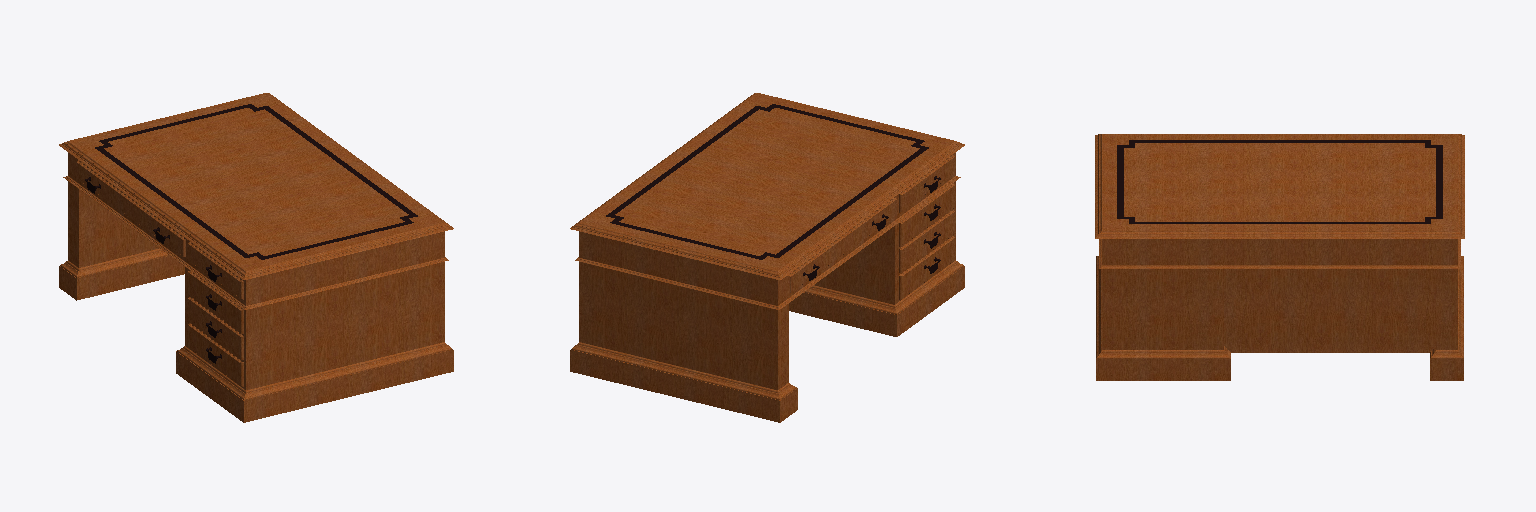
3 views of the same model, side by side, from view 1: azimuth 30°, elevation 25°; view 2: azimuth 150°, elevation 25°; view 3: azimuth 270°, elevation 25° (orthographic).
Parts seen in each view (by area): view 1: Mesh7 desk1 desk_1_1 Model, Mesh8 desk1 desk_1_1 Model; view 2: Mesh7 desk1 desk_1_1 Model, Mesh8 desk1 desk_1_1 Model; view 3: Mesh7 desk1 desk_1_1 Model.
Boxes of the visible parts, x1=… form: Mesh7 desk1 desk_1_1 Model: x1=59, y1=93, x2=453, y2=422; Mesh8 desk1 desk_1_1 Model: x1=188, y1=270, x2=243, y2=333; Mesh7 desk1 desk_1_1 Model: x1=570, y1=93, x2=964, y2=422; Mesh8 desk1 desk_1_1 Model: x1=899, y1=183, x2=954, y2=246; Mesh7 desk1 desk_1_1 Model: x1=1095, y1=134, x2=1464, y2=380.
Size of the model in its own units: 2.07 by 1.38 by 3.13.
2 materials, 1 textured.